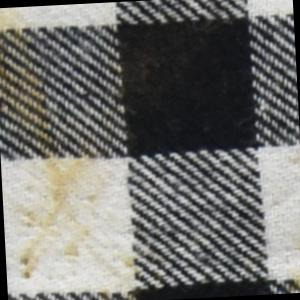Oil Stain: (1, 2, 143, 300), (265, 153, 300, 295)
